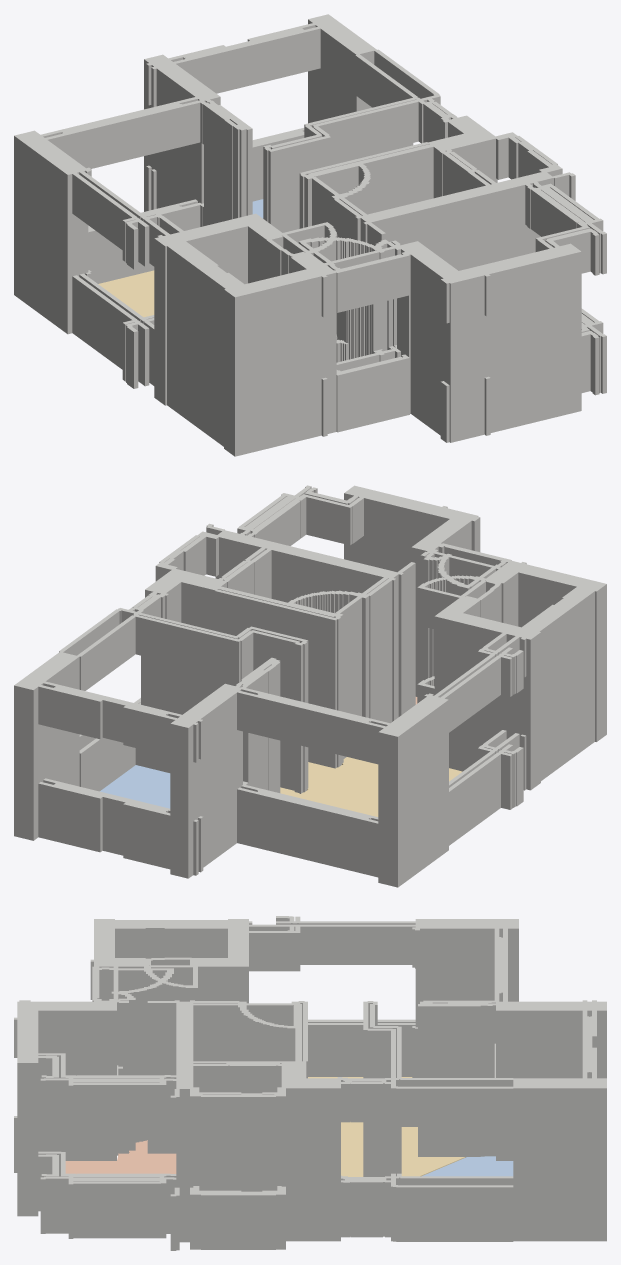
The picture shows the model from 3 angles, top to bottom: view 1: azimuth 30°, elevation 25°; view 2: azimuth 150°, elevation 25°; view 3: azimuth 270°, elevation 25°; orthographic projection. The views are drawn at different scales.
Parts seen in each view (by area): view 1: walls, room:living:0; view 2: walls, room:living:0, room:bedroom:1; view 3: walls, room:living:0, room:kitchen:5, room:bedroom:1.
Boxes of the visible parts, x1,y1,x2,y2 form: walls: [14, 14, 606, 456]; room:living:0: [98, 270, 154, 317]; walls: [14, 485, 606, 887]; room:living:0: [280, 757, 462, 816]; room:bedroom:1: [100, 765, 170, 808]; walls: [14, 916, 606, 1250]; room:living:0: [308, 1077, 465, 1176]; room:kitchen:5: [65, 1140, 176, 1174]; room:bedroom:1: [422, 1156, 513, 1176].
Bounding box in the file's own units: 7.12 × 2.8 × 9.82.
